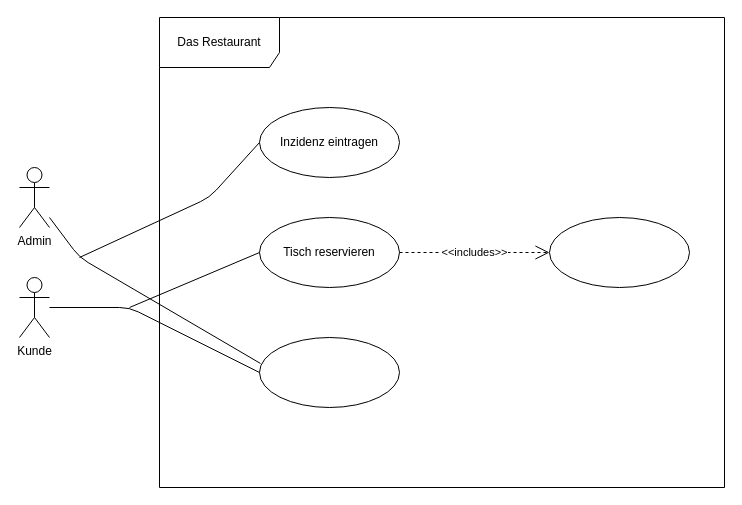
Image size: 742x505. Some labels were removed from this diagram. The centre of each missing label's shape, as x and y in pixels:
Kontaktdaten hinterlegen <<sekundär>>: pixel 619 252
Tisch stornieren: pixel 329 372
